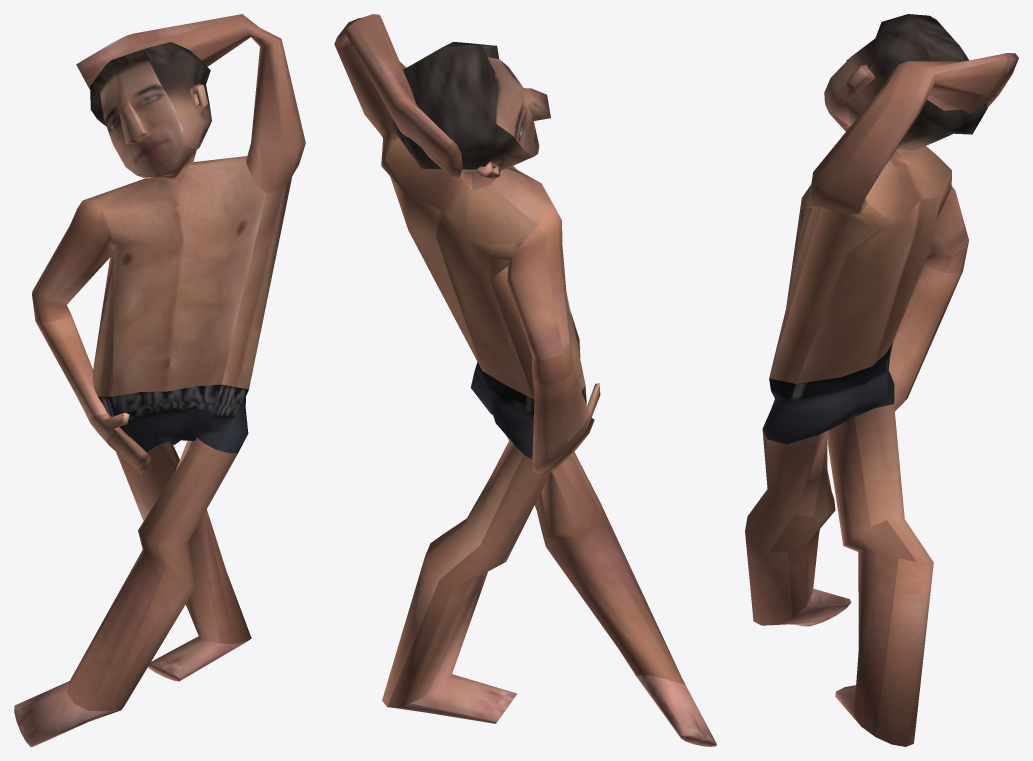
The model's file is male.fbx.
3 renders of one model, left to right at view 1: azimuth 30°, elevation 25°; view 2: azimuth 150°, elevation 25°; view 3: azimuth 270°, elevation 25°, orthographic. The views are drawn at different scales.
Visible parts, largest first — view 1: Cube.011; view 2: Cube.011; view 3: Cube.011.
Boxes of the visible parts, bbox=[...] form: Cube.011: bbox=[14, 14, 305, 746]; Cube.011: bbox=[334, 14, 716, 746]; Cube.011: bbox=[745, 14, 1018, 746].
Bounding box in the file's own units: 622 × 1266 × 446.
